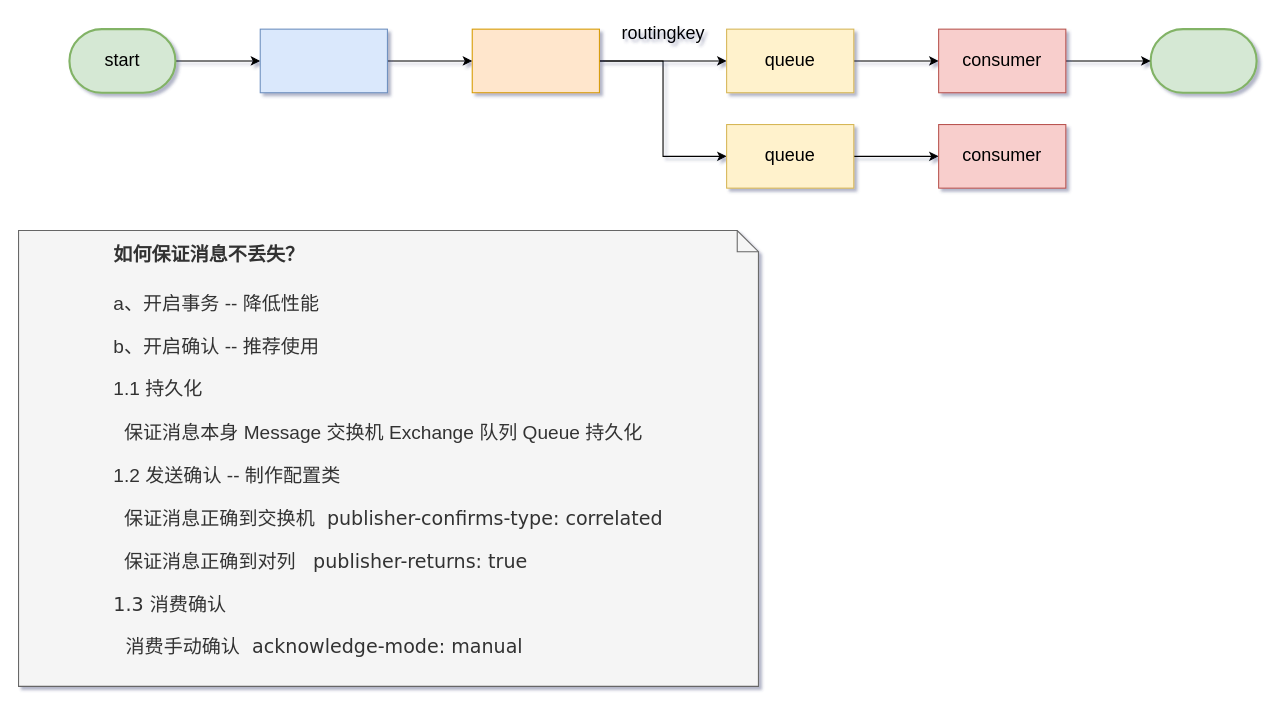
Some shapes in this 1283 by 724 pixel diagram are drawn without their labels. The centre of each missing label's shape, as x and y in pixels:
"end" goes at point 1203,60.
"exchange" goes at point 535,60.
"product" goes at point 323,60.
